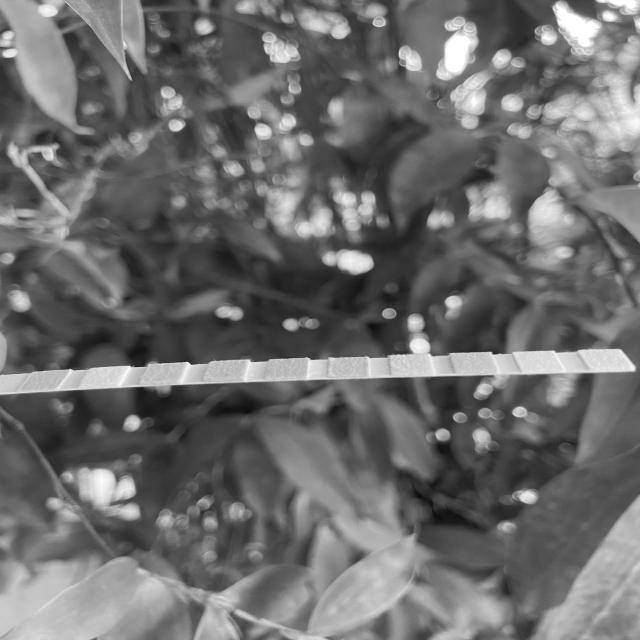Bilirubin: (92, 368, 116, 387)
Blood: (270, 359, 304, 379)
Glucose: (33, 373, 55, 390)
Ketone: (149, 365, 177, 384)
Leukocytes: (594, 350, 619, 370)
Nitrite: (524, 352, 552, 371)
Protein: (391, 356, 428, 375)
SpGravity: (211, 362, 243, 381)
Urobilinogen: (456, 353, 491, 373)
background: (0, 0, 640, 640)
pH: (330, 358, 368, 377)
strip: (1, 351, 636, 394)
